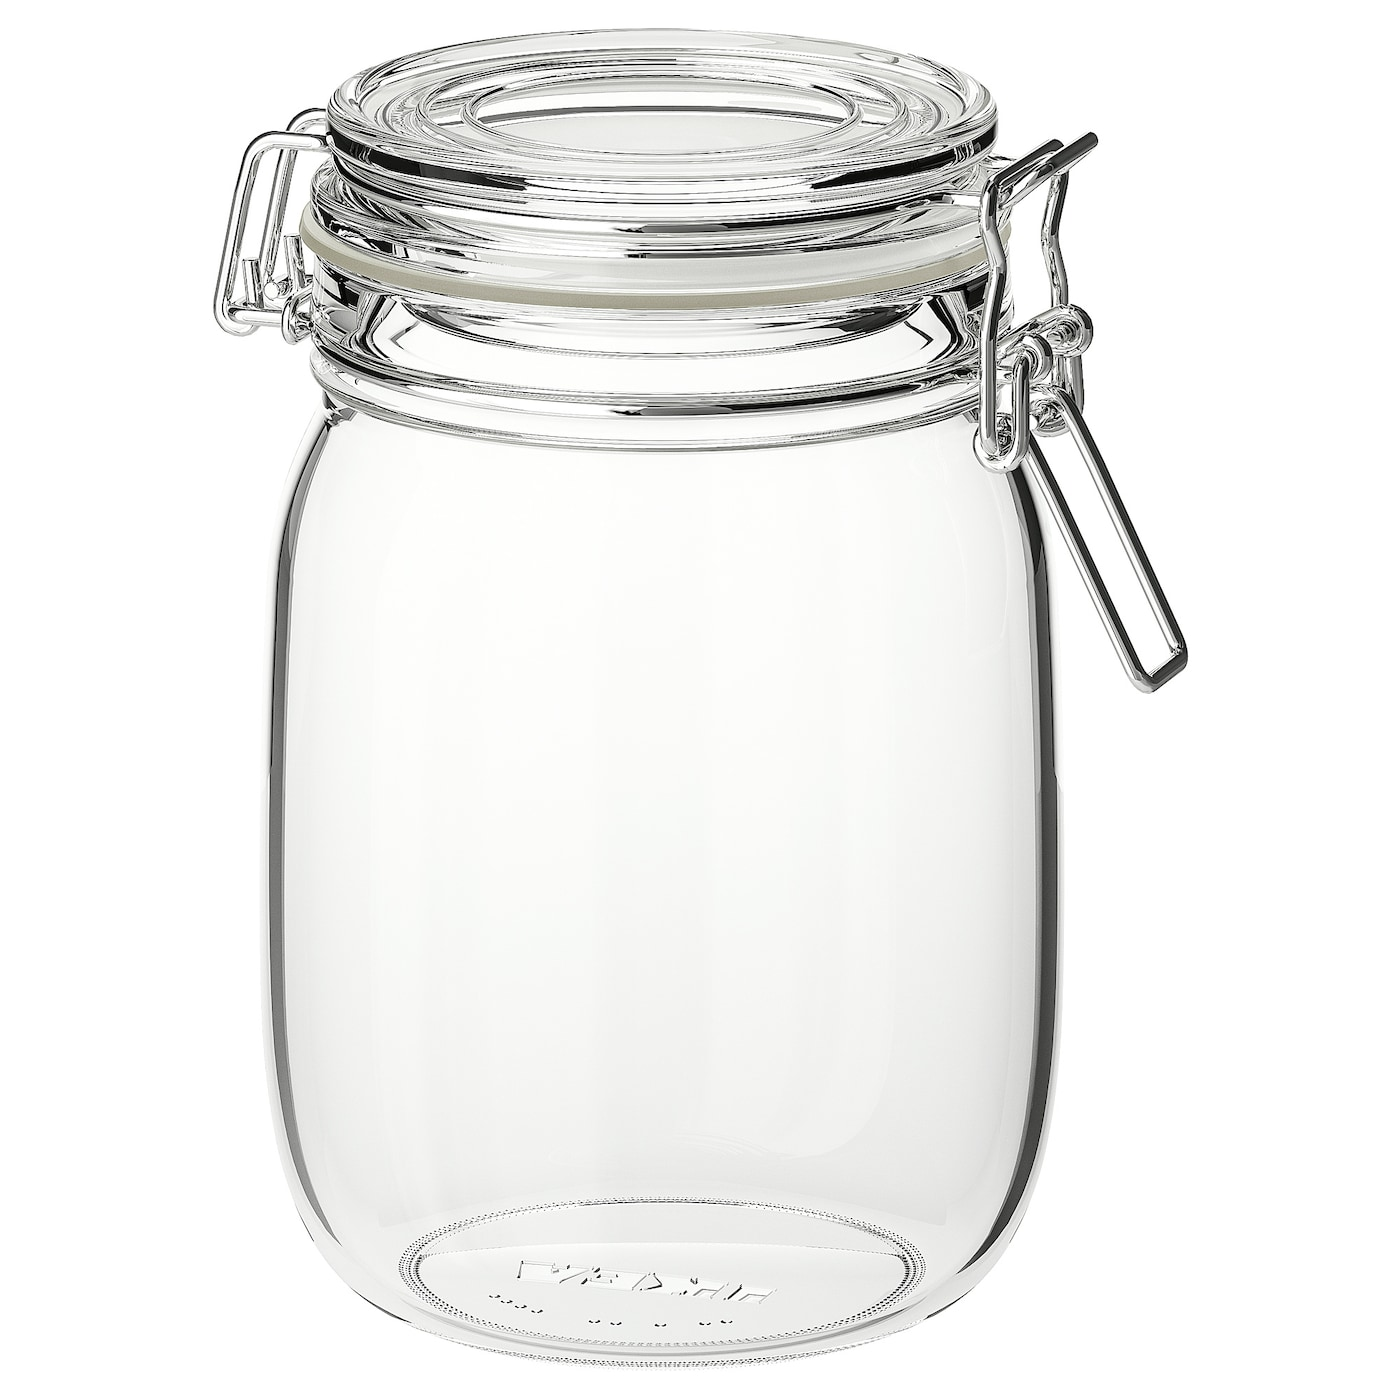glass_bottle: (191, 12, 1195, 1385)
